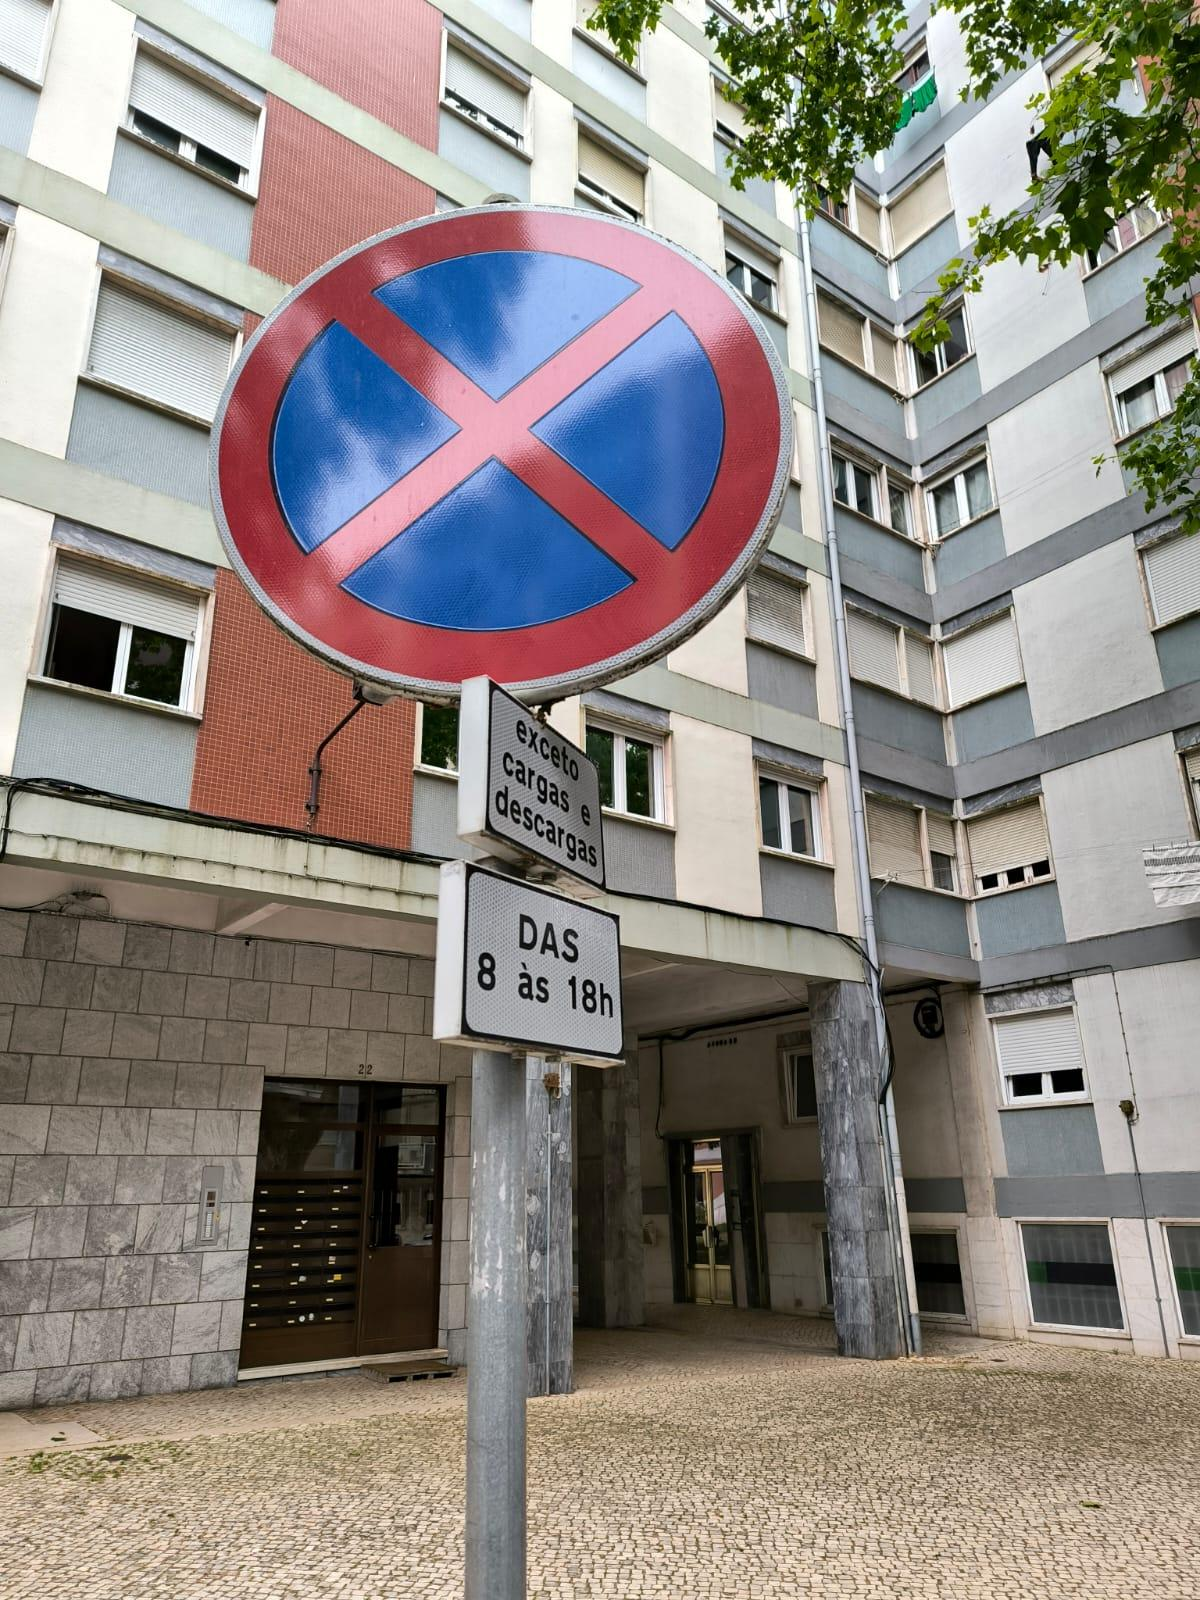zona de paragem e estacionamneto proibido: (203, 203, 790, 697)
